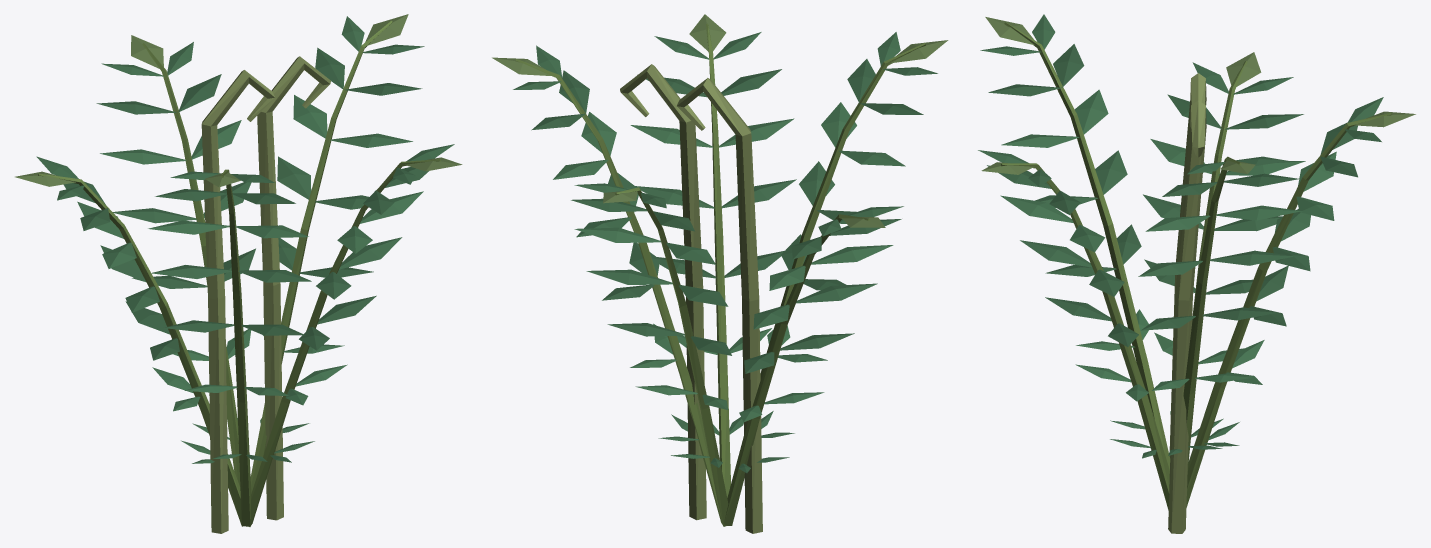
File: fern_b.glb
The picture shows the model from 3 angles, left to right: view 1: azimuth 30°, elevation 25°; view 2: azimuth 150°, elevation 25°; view 3: azimuth 270°, elevation 25°; orthographic projection.
Visible parts, largest first — view 1: geometry; view 2: geometry; view 3: geometry.
Boxes of the visible parts, <box> form: geometry: <box>15,14,462,533</box>; geometry: <box>492,14,948,533</box>; geometry: <box>978,14,1415,533</box>.
Size of the model in its own units: 0.6371 by 0.6934 by 0.6139.
